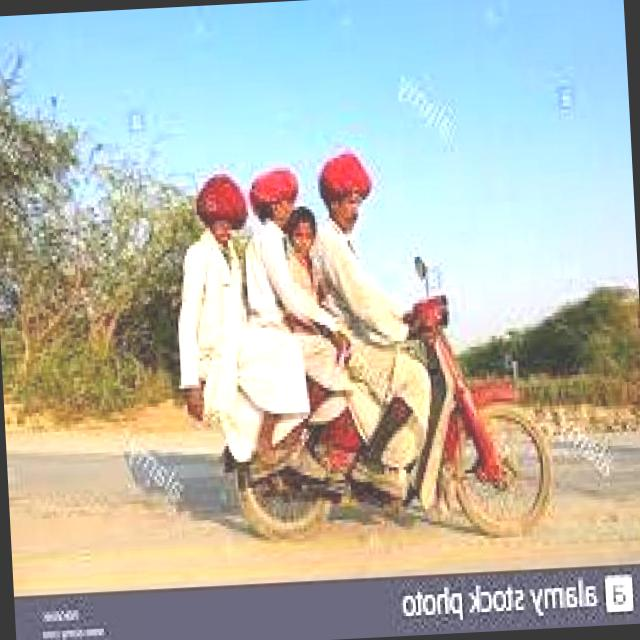motorcycle: (207, 280, 564, 555)
person: (300, 138, 416, 401), (163, 170, 267, 432), (238, 162, 321, 394), (264, 198, 346, 374)
rider_region: (177, 137, 564, 555)
